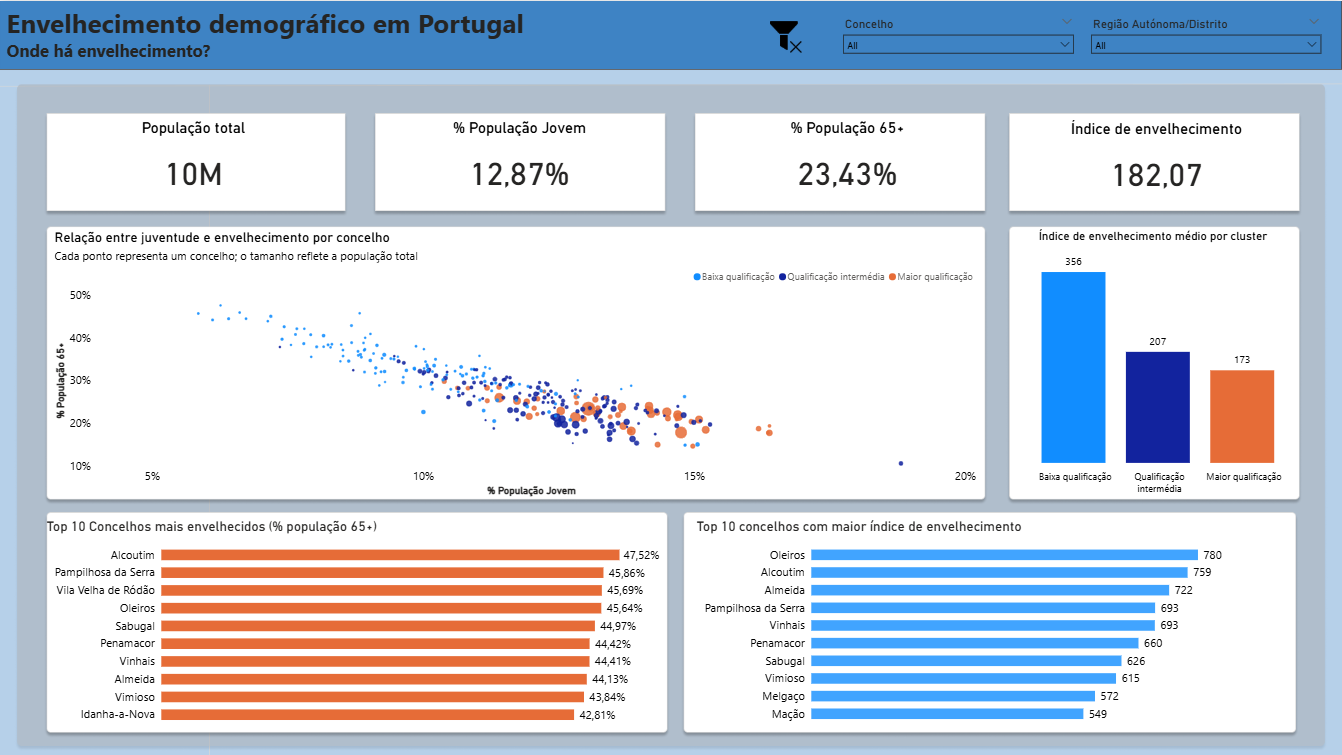

What the dashboard file says about the page in this screenshot:
{"tool":"powerbi","page":{"name":"Estrutura demográfica","canvas":[1920,1080],"ordinal":3},"visuals":[{"type":"scatterChart","title":"Relação entre juventude e envelhecimento por concelho","fields":{"X":["Measures (2).Pct_Pop_Jovem"],"Y":["Measures (2).Pct_Pop_65mais"],"Size":["Measures (2).Pop_Total"],"Category":["dim_geografia.Concelho"],"Series":["concelhos_analitica.cluster_label"]},"box":[74.3,325.7,1327.1,387.1],"z":0},{"type":"card","title":"População total","fields":{"Values":["Measures (2).Pop_Total"]},"box":[102.9,168.6,350,122.9],"z":1000},{"type":"card","title":"% População Jovem","fields":{"Values":["Measures (2).Pct_Pop_Jovem"]},"box":[592.9,168.6,301.4,122.9],"z":2000},{"type":"card","title":"% População 65+","fields":{"Values":["Measures (2).Pct_Pop_65mais"]},"box":[1072.9,168.6,278.6,122.9],"z":3000},{"type":"card","title":"Índice de envelhecimento","fields":{"Values":["Measures (2).Indice_Envelhecimento"]},"box":[1494.3,170,318.6,121.4],"z":4000},{"type":"barChart","title":"Top 10 Concelhos mais envelhecidos (% população 65+)","fields":{"Y":["Measures (2).Pct_Pop_65mais"],"Category":["dim_geografia.Concelho"]},"box":[62.9,738.6,885.7,304.3],"z":5000},{"type":"barChart","title":"Top 10 concelhos com maior índice de envelhecimento","fields":{"Y":["Measures (2).Indice_Envelhecimento"],"Category":["dim_geografia.Concelho"]},"box":[991.4,738.6,851.4,302.9],"z":6000},{"type":"textbox","box":[5.7,0,1118.6,97.1],"z":7000},{"type":"columnChart","title":"Índice de envelhecimento médio por cluster","fields":{"Y":["Measures (2).Avg_Indíce_Envelhecimento"],"Category":["concelhos_analitica.cluster_label"]},"box":[1417.1,325.7,462.9,387.1],"z":8000},{"type":"image","box":[1102,26,45,51.2],"z":9000},{"type":"slicer","fields":{"Values":["dim_geografia.Territorio_Admin"]},"box":[1550,17.1,348.6,60],"z":10000},{"type":"slicer","fields":{"Values":["dim_geografia.Concelho"]},"box":[1195.7,17.1,350,60],"z":11000}]}

Visuals, with their boxes in screenshot pixels (x1, y1, x2, y2), scaled from the page's 1920x1080 canvas onto the 1342x755 screenshot:
"Relação entre juventude e envelhecimento por concelho" scatterChart: 52 228 980 498
"População total" card: 72 118 317 204
"% População Jovem" card: 414 118 625 204
"% População 65+" card: 750 118 945 204
"Índice de envelhecimento" card: 1044 119 1267 204
"Top 10 Concelhos mais envelhecidos (% população 65+)" barChart: 44 516 663 729
"Top 10 concelhos com maior índice de envelhecimento" barChart: 693 516 1288 728
textbox: 4 0 786 68
"Índice de envelhecimento médio por cluster" columnChart: 990 228 1314 498
image: 770 18 802 54
slicer - dim_geografia.Territorio_Admin: 1083 12 1327 54
slicer - dim_geografia.Concelho: 836 12 1080 54
